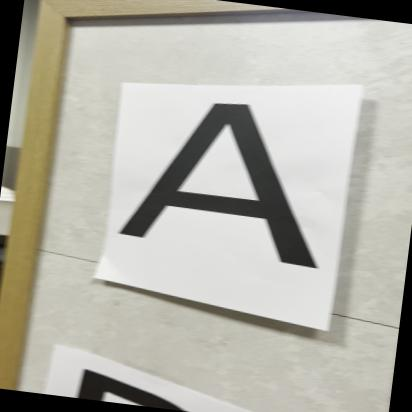seat: (99, 95, 334, 290)
